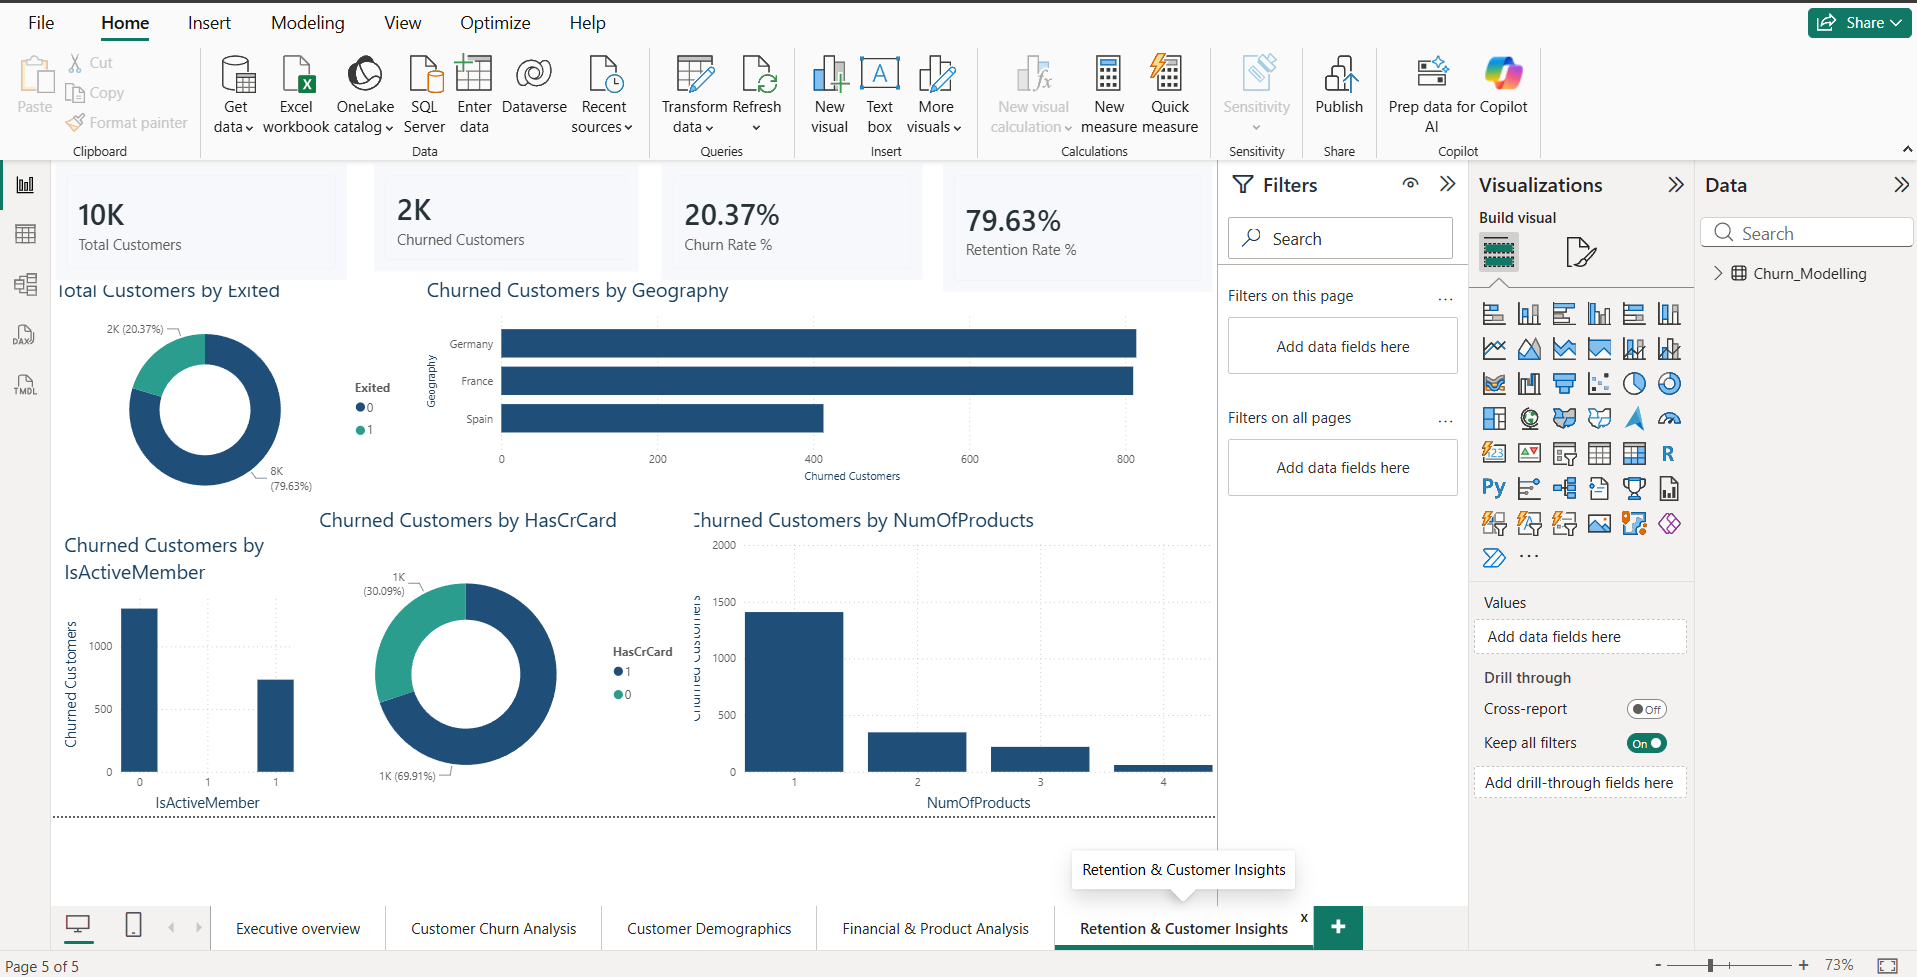

This screenshot's page, from the dashboard's own definition file:
{"tool":"powerbi","page":{"name":"Retention & Customer Insights ","canvas":[1280,720],"ordinal":4},"visuals":[{"type":"donutChart","fields":{"Category":["Churn_Modelling.Exited"],"Y":["Churn_Modelling.Total Customers"]},"box":[0,127.6,396.6,264.8],"z":0},{"type":"clusteredBarChart","fields":{"Category":["Churn_Modelling.Geography"],"Y":["Churn_Modelling.Churned Customers"]},"box":[407.5,127.6,872.7,231.9],"z":1000},{"type":"columnChart","fields":{"Category":["Churn_Modelling.IsActiveMember"],"Y":["Churn_Modelling.Churned Customers"]},"box":[9.6,407.5,262.1,312.9],"z":2000},{"type":"clusteredColumnChart","fields":{"Category":["Churn_Modelling.NumOfProducts"],"Y":["Churn_Modelling.Churned Customers"]},"box":[694.3,380.1,585.9,340.3],"z":3000},{"type":"donutChart","fields":{"Category":["Churn_Modelling.HasCrCard"],"Y":["Churn_Modelling.Churned Customers"]},"box":[289.5,380.1,417.2,340.3],"z":4000},{"type":"cardVisual","fields":{"Data":["Churn_Modelling.Churned Customers"]},"box":[349.9,0,300.5,127.6],"z":5000},{"type":"cardVisual","fields":{"Data":["Churn_Modelling.Churn Rate %"]},"box":[665.5,0,296.4,137.2],"z":6000},{"type":"cardVisual","fields":{"Data":["Churn_Modelling.Retention Rate %"]},"box":[974.3,0,306,150.9],"z":7000},{"type":"cardVisual","fields":{"Data":["Churn_Modelling.Total Customers"]},"box":[0,0,330.7,137.2],"z":8000}]}

Visuals, with their boxes on the page's 1280x720 design canvas (x1, y1, x2, y2). These are canvas units, not pixel positions in the 1917x977 screenshot, which may show the page scaled, cropped or inside an application window:
donutChart - Churn_Modelling.Exited x Churn_Modelling.Total Customers: bbox=[0, 128, 397, 392]
clusteredBarChart - Churn_Modelling.Geography x Churn_Modelling.Churned Customers: bbox=[408, 128, 1280, 360]
columnChart - Churn_Modelling.IsActiveMember x Churn_Modelling.Churned Customers: bbox=[10, 408, 272, 720]
clusteredColumnChart - Churn_Modelling.NumOfProducts x Churn_Modelling.Churned Customers: bbox=[694, 380, 1280, 720]
donutChart - Churn_Modelling.HasCrCard x Churn_Modelling.Churned Customers: bbox=[290, 380, 707, 720]
cardVisual - Churn_Modelling.Churned Customers: bbox=[350, 0, 650, 128]
cardVisual - Churn_Modelling.Churn Rate %: bbox=[666, 0, 962, 137]
cardVisual - Churn_Modelling.Retention Rate %: bbox=[974, 0, 1280, 151]
cardVisual - Churn_Modelling.Total Customers: bbox=[0, 0, 331, 137]
